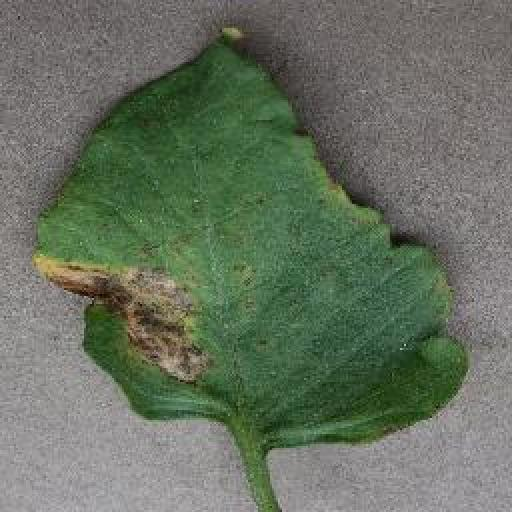Bacterial Spot: (26, 19, 478, 512)
